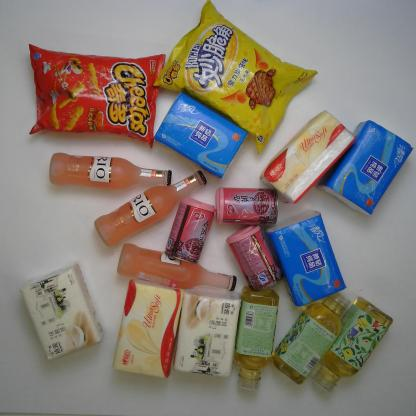Alcohol: (89, 167, 213, 248), (113, 240, 243, 297), (47, 147, 176, 196)
Canned Food: (223, 219, 287, 293), (162, 196, 217, 269), (208, 184, 284, 228)
Drink: (304, 294, 400, 402), (270, 289, 358, 384), (230, 284, 292, 398)
Puffed Food: (149, 1, 321, 157), (28, 38, 166, 144)
Tissue: (13, 257, 111, 370), (258, 108, 360, 207), (152, 87, 253, 181), (319, 116, 410, 218), (259, 214, 354, 310), (106, 276, 182, 379), (168, 288, 248, 382)
